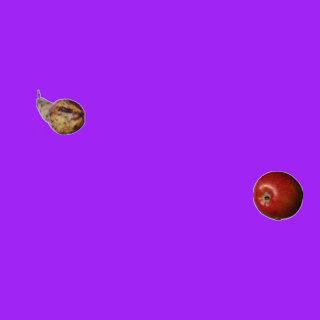Apple Braeburn: (252, 170, 302, 220)
Pear Abate: (35, 87, 85, 137)
